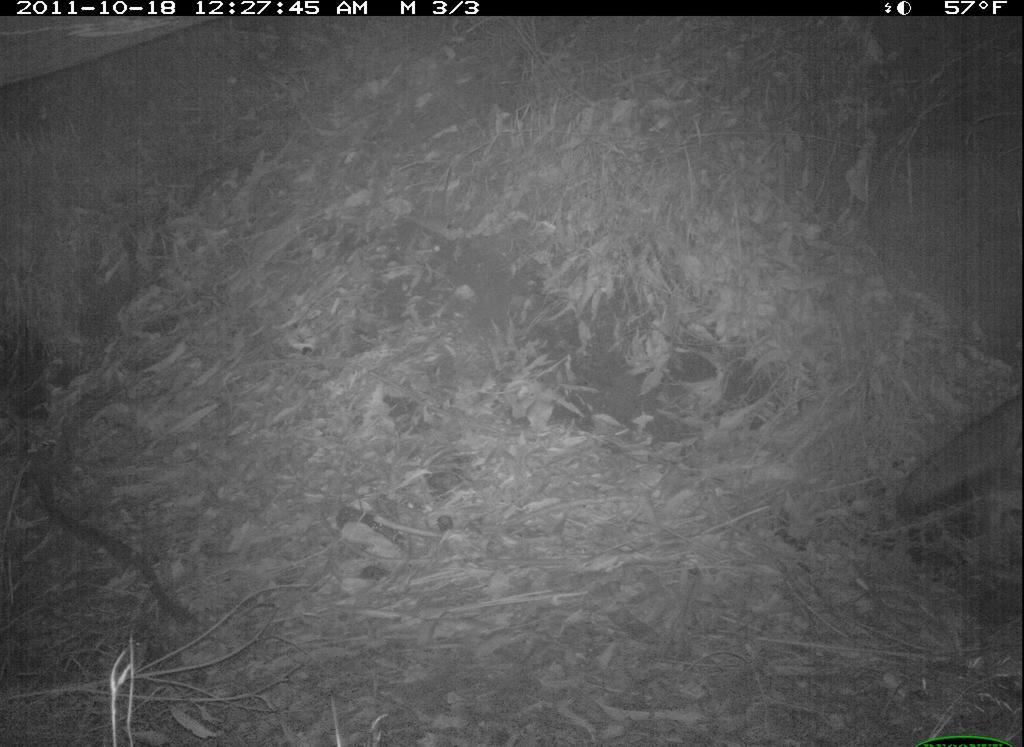coyote: (897, 379, 1023, 546)
